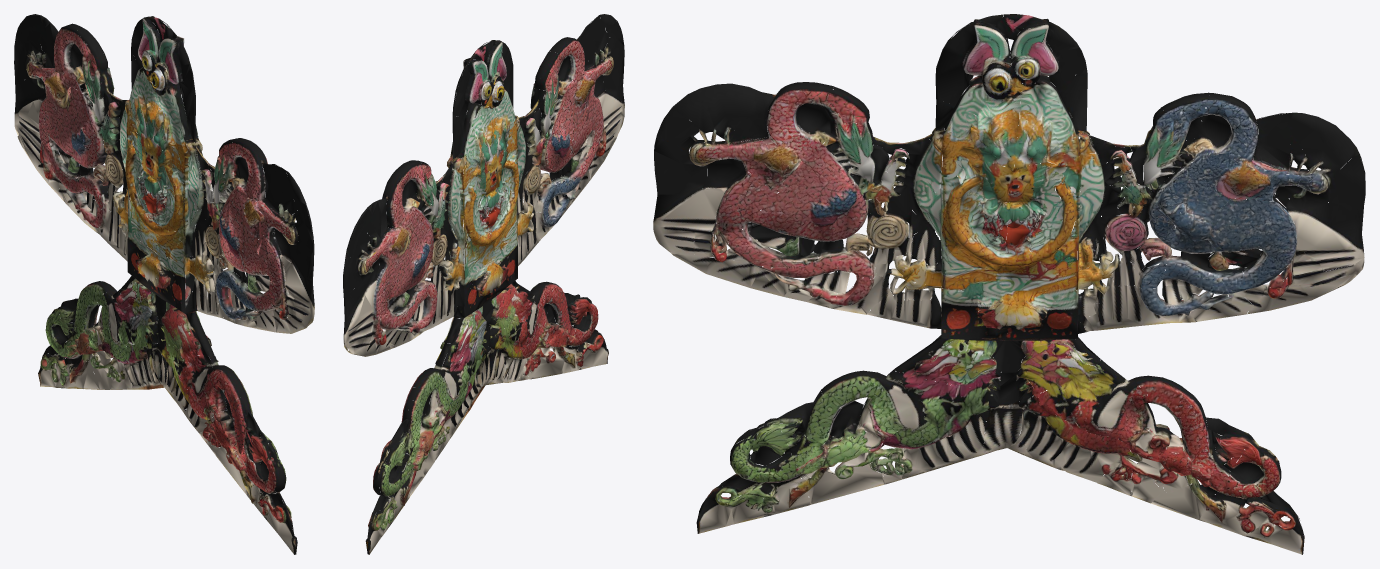
File: kite-finished.web.glb
3 views of the same model, side by side, from view 1: azimuth 30°, elevation 25°; view 2: azimuth 150°, elevation 25°; view 3: azimuth 270°, elevation 25° (orthographic). The views are drawn at different scales.
Visible parts, largest first — view 1: tripo_node_0f9327c5-7c2c-4af7-be0c-59d047eaf2af; view 2: tripo_node_0f9327c5-7c2c-4af7-be0c-59d047eaf2af; view 3: tripo_node_0f9327c5-7c2c-4af7-be0c-59d047eaf2af.
Boxes of the visible parts, <box> form: tripo_node_0f9327c5-7c2c-4af7-be0c-59d047eaf2af: <box>14,14,314,554</box>; tripo_node_0f9327c5-7c2c-4af7-be0c-59d047eaf2af: <box>343,14,624,554</box>; tripo_node_0f9327c5-7c2c-4af7-be0c-59d047eaf2af: <box>653,14,1365,554</box>.
Size of the model in its own units: 0.0594 by 0.8348 by 0.9977.
Materials: 1 (1 with a texture image).
